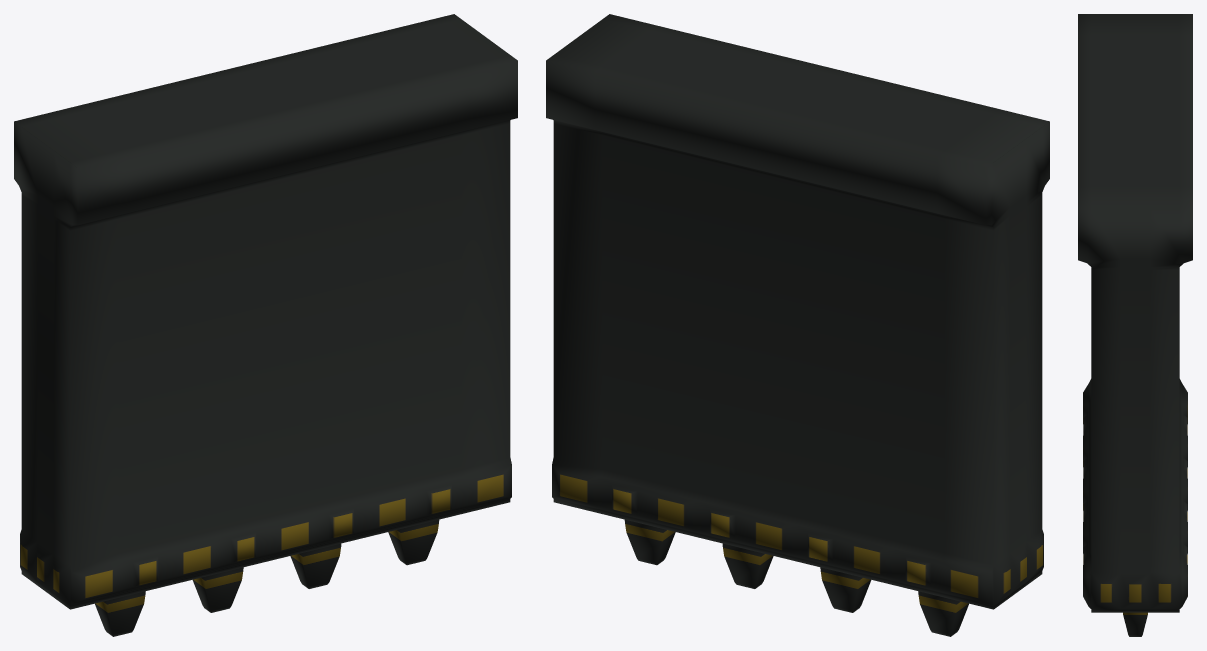
File: Gate.glb
The picture shows the model from 3 angles, left to right: view 1: azimuth 30°, elevation 25°; view 2: azimuth 150°, elevation 25°; view 3: azimuth 270°, elevation 25°; orthographic projection. The views are drawn at different scales.
Visible parts, largest first — view 1: TOP; view 2: TOP; view 3: TOP.
Part boxes in pixels (left/top/right/bottom): TOP: left=14, top=14, right=517, bottom=636; TOP: left=546, top=14, right=1049, bottom=636; TOP: left=1078, top=14, right=1192, bottom=636.
Size of the model in its own units: 8.21 by 8.78 by 2.
1 material, 1 textured.
